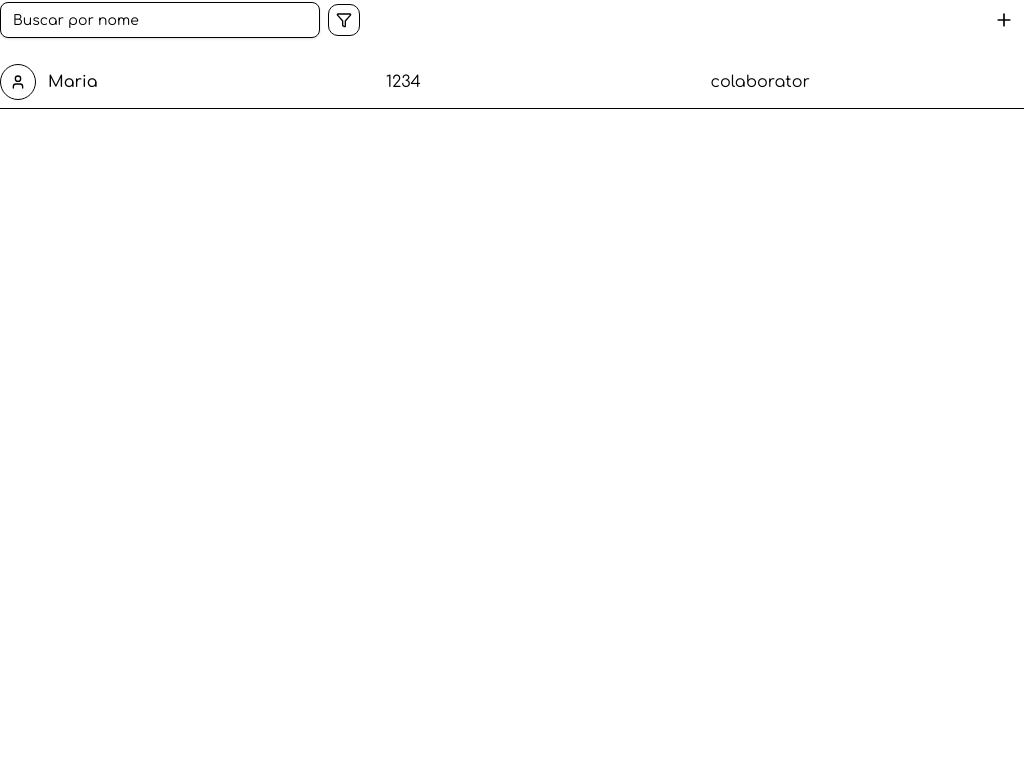
it: UserManager › shows the active status field in edit modal for admin
This screenshot has width=1024, height=768.
Click the button "Maria 1234 colaborator".
click(18, 82)  # box x1=0 y1=56 x2=1023 y2=108
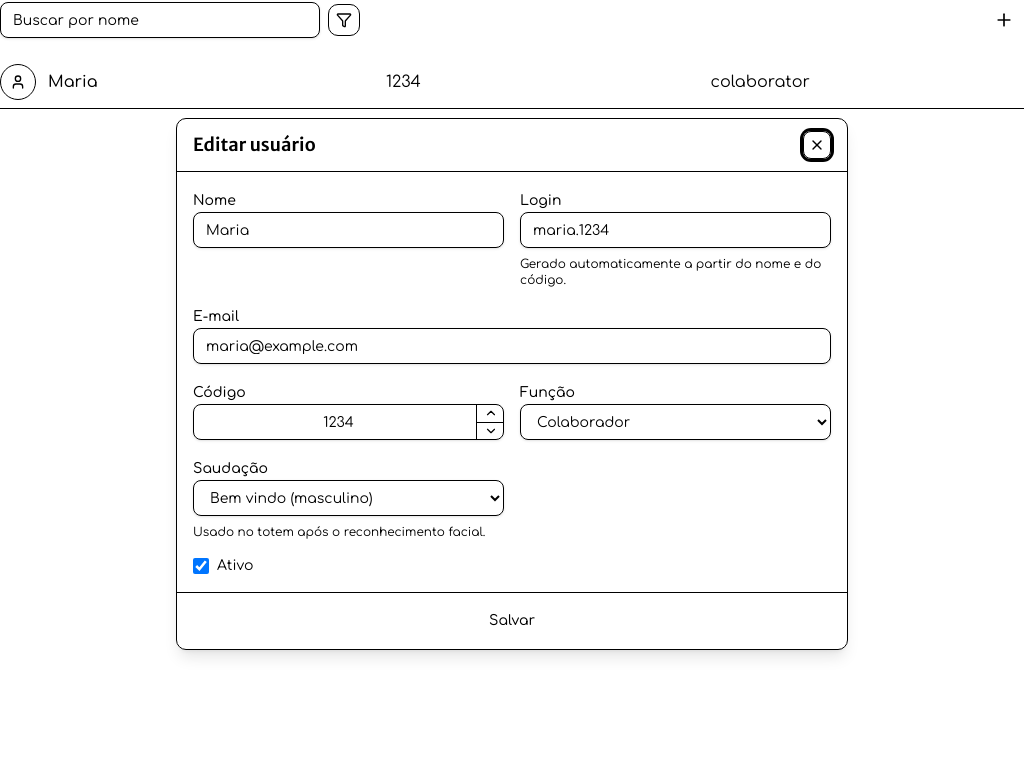
Check: the checkbox labelled "Ativo" is checked, box x1=193 y1=558 x2=209 y2=574
